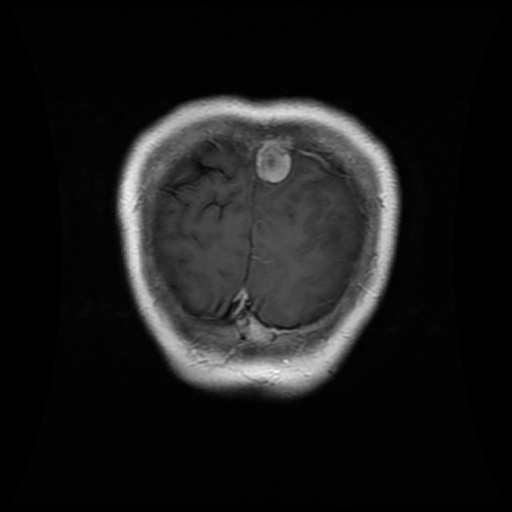glioma: (257, 134, 294, 182)
